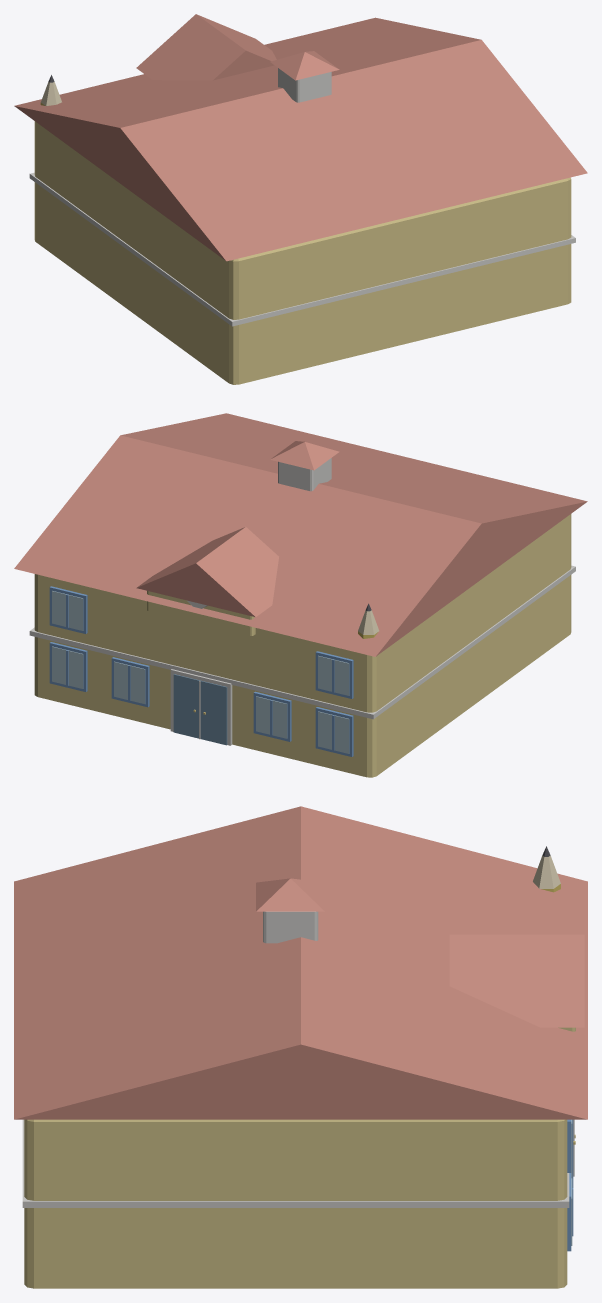
File: centro-escola-a487ac0a.glb
3 renders of one model, top to bottom at view 1: azimuth 30°, elevation 25°; view 2: azimuth 150°, elevation 25°; view 3: azimuth 270°, elevation 25°, orthographic. The views are drawn at different scales.
Visible parts, largest first — view 1: centro_escola_body; view 2: centro_escola_body; view 3: centro_escola_body, centro_escola_glow.
Part boxes in pixels (box(x1,y1,x2,y2)): centro_escola_body: box(14, 14, 587, 384); centro_escola_body: box(14, 413, 587, 777); centro_escola_body: box(14, 806, 587, 1288); centro_escola_glow: box(533, 846, 560, 892).
Size of the model in its own units: 16.3 by 9.5 by 16.6.
